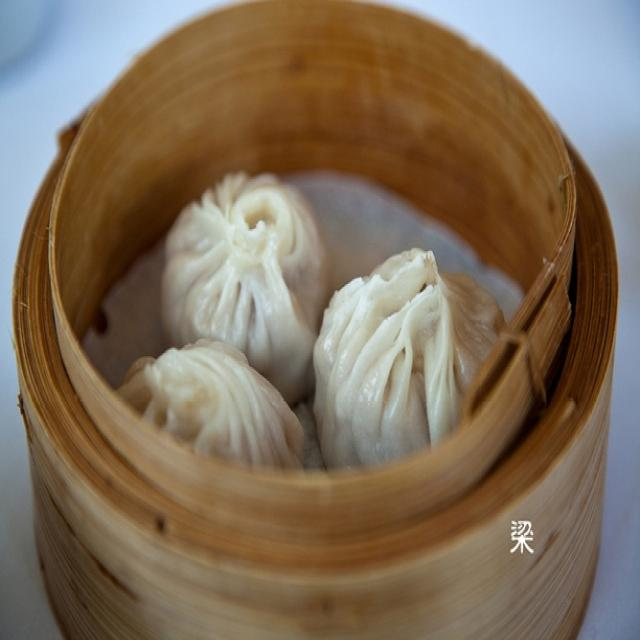带馅早点: (25, 9, 616, 634)
